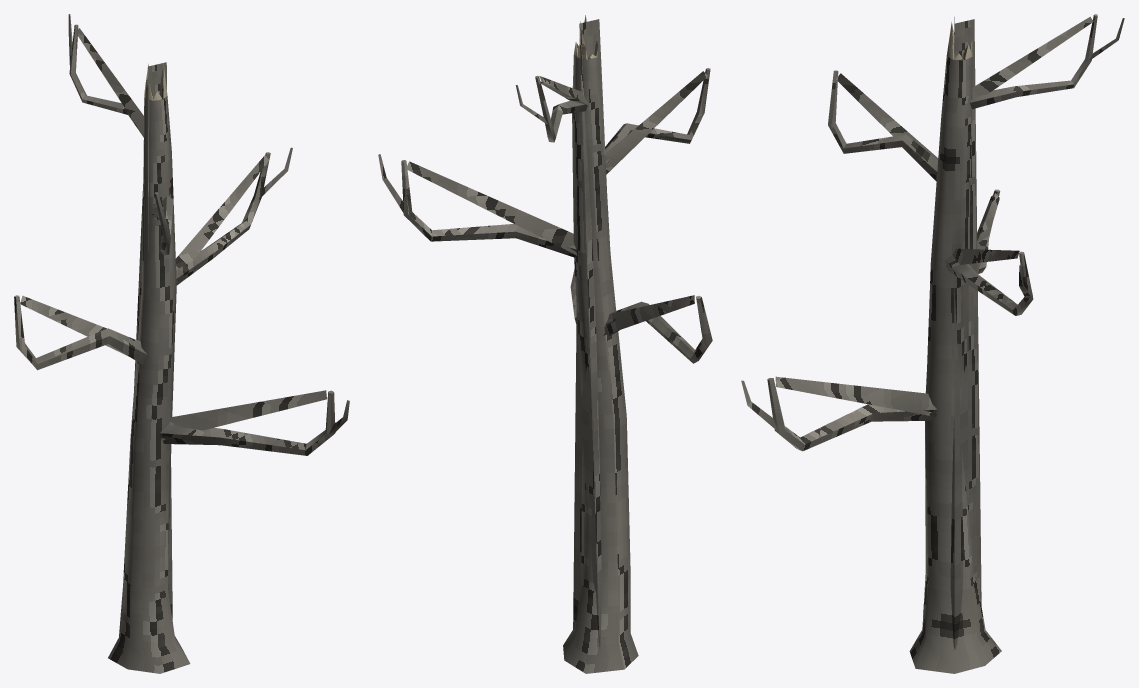
Rendered from p_deadtree.glb.
3 renders of one model, left to right at view 1: azimuth 30°, elevation 25°; view 2: azimuth 150°, elevation 25°; view 3: azimuth 270°, elevation 25°, orthographic. The views are drawn at different scales.
Visible parts, largest first — view 1: dt_tree, dt_far; view 2: dt_tree, dt_far; view 3: dt_tree, dt_far.
Boxes of the visible parts, x1=… form: dt_tree: x1=14, y1=14, x2=349, y2=673; dt_far: x1=20, y1=28, x2=326, y2=648; dt_tree: x1=378, y1=15, x2=712, y2=673; dt_far: x1=406, y1=19, x2=707, y2=647; dt_tree: x1=741, y1=14, x2=1124, y2=673; dt_far: x1=775, y1=16, x2=1093, y2=650.
Bounding box in the file's own units: 4.14 × 8 × 4.33.
1 material, 1 textured.
